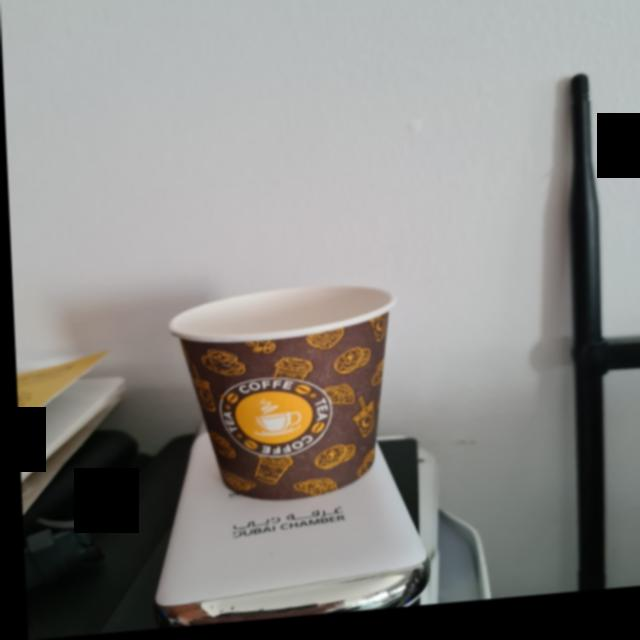cups: (161, 288, 402, 510)
